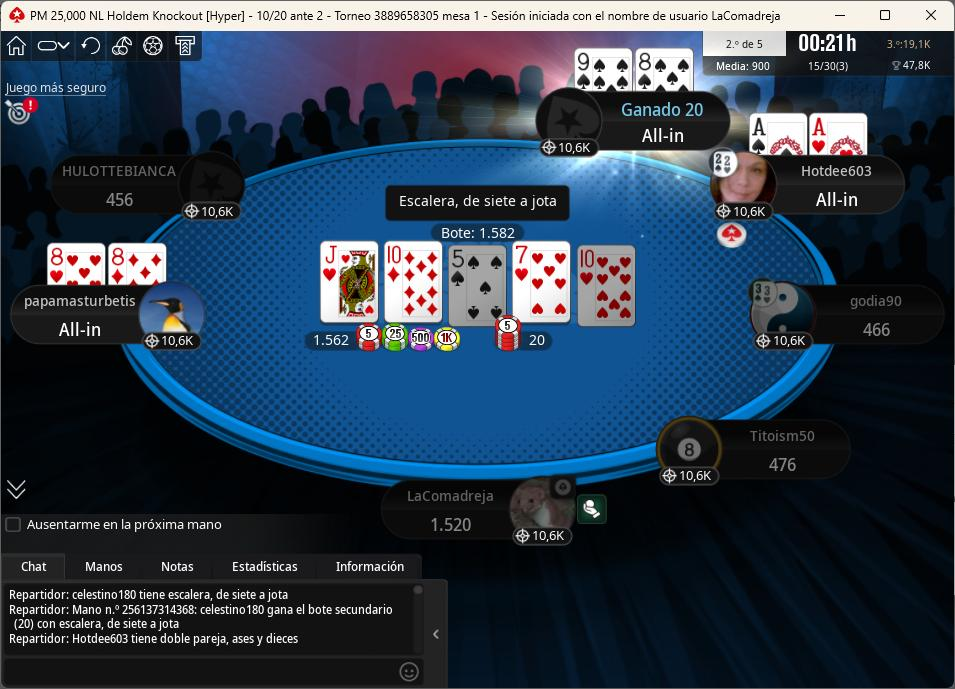Dealer: (713, 220, 752, 252)
Player: (746, 279, 946, 350), (707, 151, 910, 218), (652, 419, 850, 487), (12, 281, 205, 350), (49, 152, 246, 218), (544, 93, 732, 159), (385, 182, 569, 220)
PlayerChips: (53, 315, 111, 341), (810, 189, 868, 211), (639, 123, 690, 145), (99, 190, 141, 211), (765, 452, 803, 475), (859, 319, 895, 341)
Pot: (430, 222, 525, 243)
PrincipalPlayer: (385, 478, 593, 549)
PrincipalPlayerChips: (420, 516, 478, 536)
ShowedCards: (311, 233, 636, 334)
ShowedCards1: (311, 233, 381, 324)
ShowedCards2: (382, 237, 448, 324)
ShowedCards3: (444, 238, 510, 326)
ShowedCards4: (508, 237, 576, 327)
ShowedCards5: (574, 240, 641, 330)
SmallBigBlind: (249, 3, 334, 29)
TablePot: (295, 309, 570, 373)
